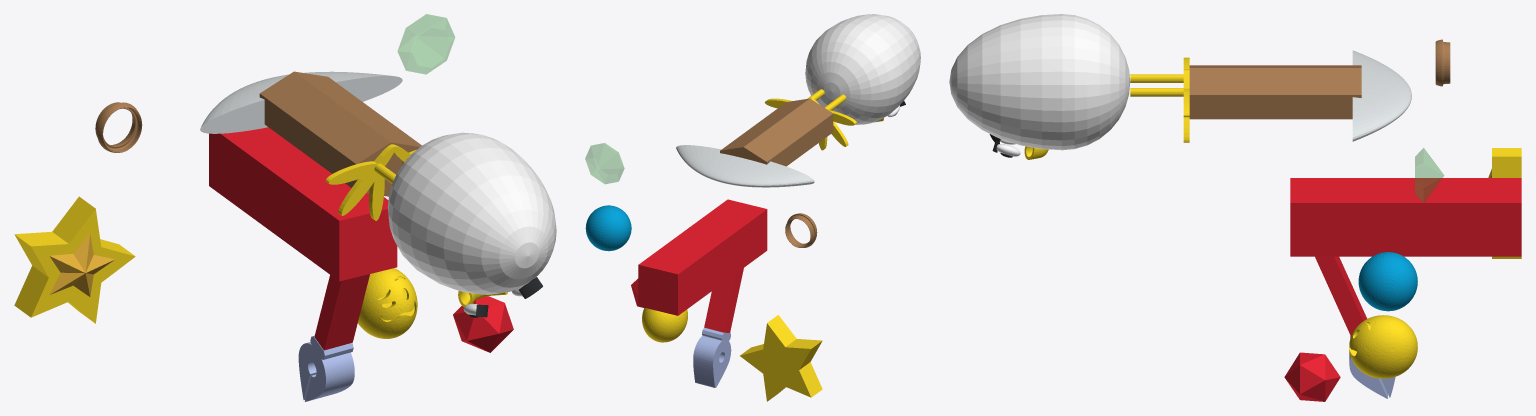
The model's file is level.obj.
The picture shows the model from 3 angles, left to right: view 1: azimuth 30°, elevation 25°; view 2: azimuth 150°, elevation 25°; view 3: azimuth 270°, elevation 25°; orthographic projection. The views are drawn at different scales.
Visible parts, largest first — view 1: group_0_16448250, group_0_15277357, group_0_16768282, group_0_11107152, group_0_14541540, group_0_11452141, group_0_-1035552951, group_0_14789940; view 2: group_0_15277357, group_0_16448250, group_0_16768282, group_0_11107152, group_0_14541540, group_0_11452141, group_0_40919, group_0_-1035552951; view 3: group_0_15277357, group_0_16448250, group_0_11107152, group_0_16768282, group_0_14541540, group_0_40919, group_0_-1035552951, group_0_11452141.
Part boxes in pixels (x1,y1,x2,y2): group_0_16448250: (387, 132, 556, 315); group_0_15277357: (209, 127, 513, 352); group_0_16768282: (14, 144, 507, 338); group_0_11107152: (95, 71, 421, 196); group_0_14541540: (200, 71, 402, 133); group_0_11452141: (298, 335, 354, 401); group_0_-1035552951: (397, 14, 454, 74); group_0_14789940: (49, 234, 114, 296); group_0_15277357: (631, 199, 767, 332); group_0_16448250: (805, 14, 920, 124); group_0_16768282: (642, 89, 883, 401); group_0_11107152: (720, 98, 833, 247); group_0_14541540: (676, 145, 814, 187); group_0_11452141: (693, 327, 731, 387); group_0_40919: (585, 205, 631, 251); group_0_-1035552951: (585, 143, 624, 183); group_0_15277357: (1284, 178, 1521, 401); group_0_16448250: (949, 14, 1130, 156); group_0_11107152: (1189, 39, 1450, 119); group_0_16768282: (1024, 57, 1521, 378); group_0_14541540: (1352, 50, 1411, 141); group_0_40919: (1358, 252, 1417, 311); group_0_-1035552951: (1415, 148, 1444, 202); group_0_11452141: (1349, 335, 1395, 398).
Bounding box in the file's own units: 138 × 133 × 193.
